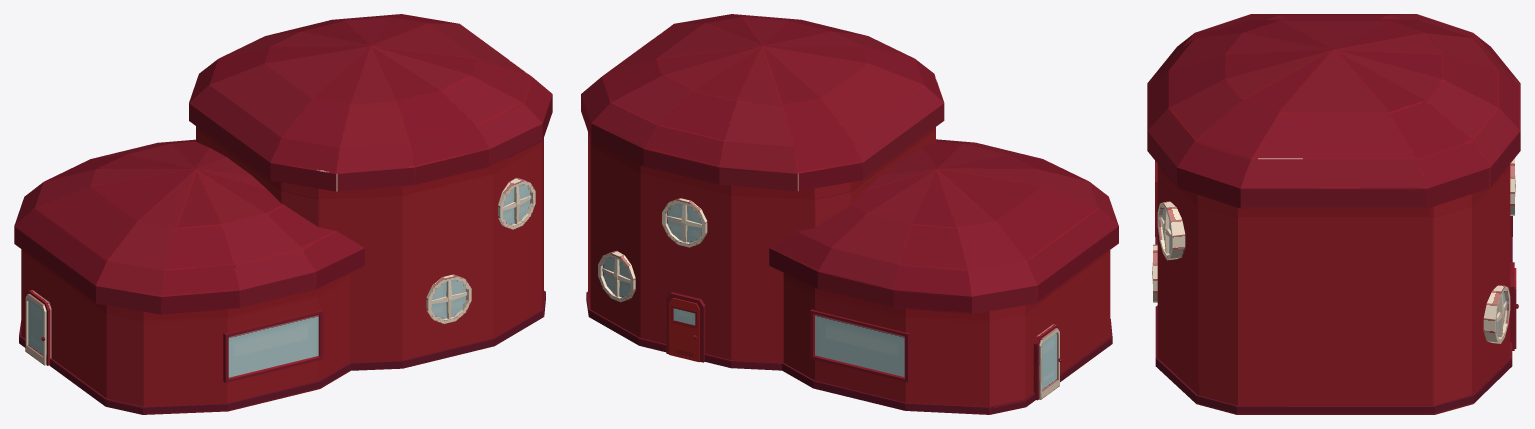
The model's file is W.H_red.fix.gltf.
The picture shows the model from 3 angles, left to right: view 1: azimuth 30°, elevation 25°; view 2: azimuth 150°, elevation 25°; view 3: azimuth 270°, elevation 25°; orthographic projection. The views are drawn at different scales.
Visible parts, largest first — view 1: mesh; view 2: mesh; view 3: mesh.
Boxes of the visible parts, x1,y1,x2,y2 form: mesh: [14, 14, 552, 414]; mesh: [581, 14, 1118, 414]; mesh: [1147, 14, 1520, 414].
Bounding box in the file's own units: 28.61 × 15.23 × 17.68.
1 material, 1 textured.
